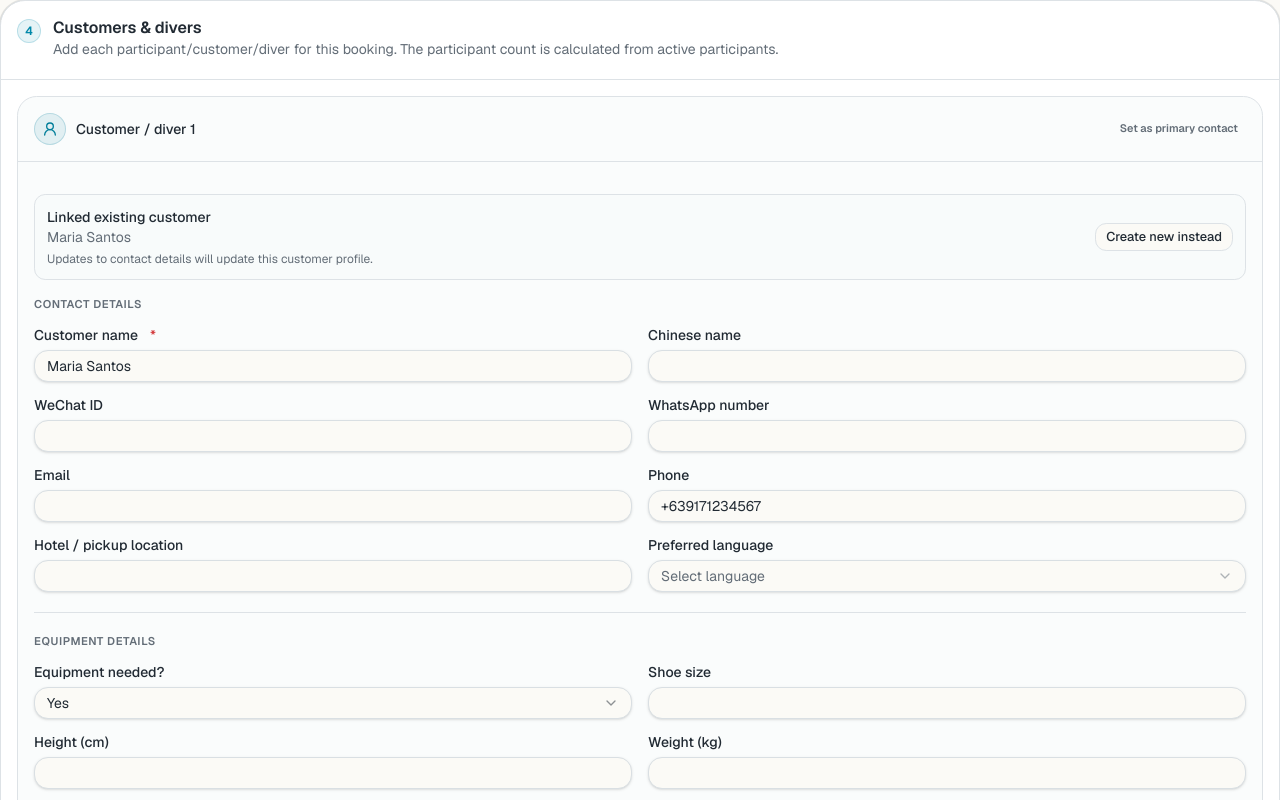
Test case: creates a new customer only after staff explicitly unlinks the existing profile
The width and height of the screenshot is (1280, 800).
Click the button "Create new instead".
click(1164, 237)  # box [1095,223,1233,251]
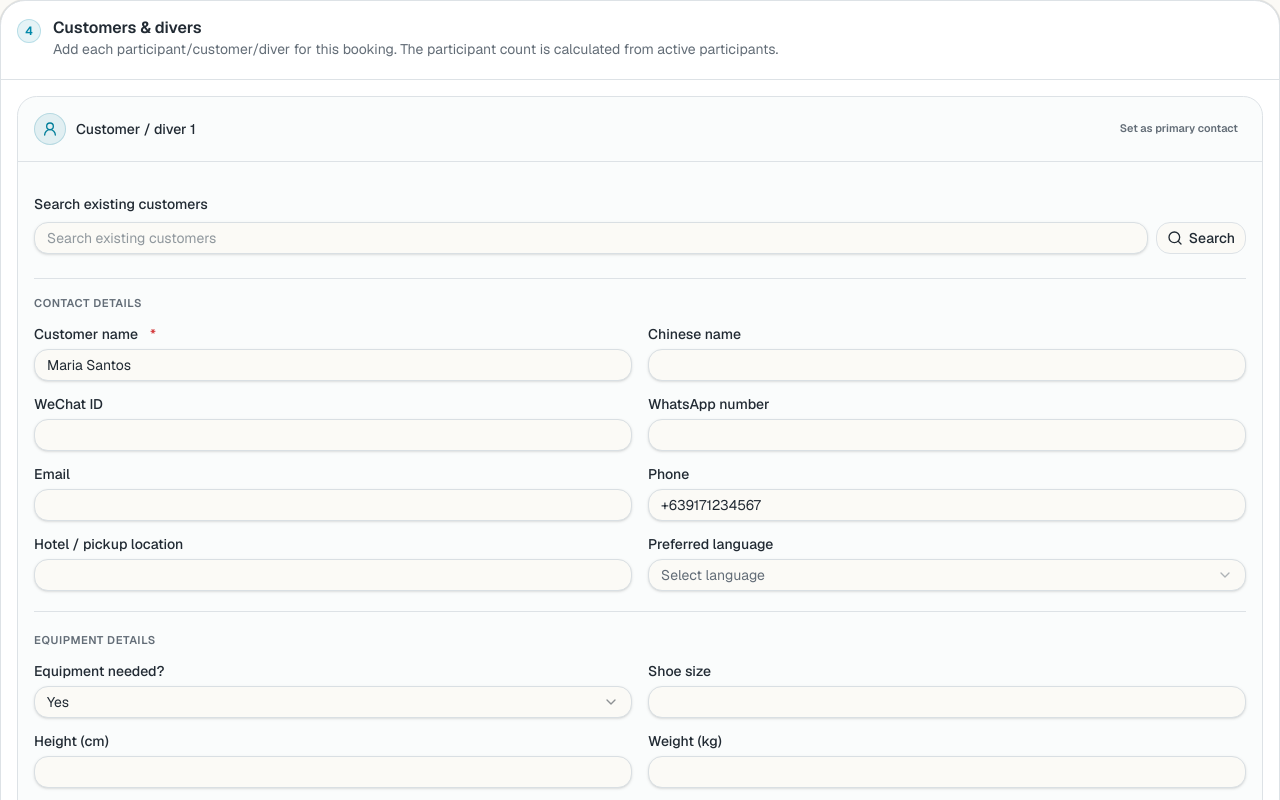
Expected: the text "Linked existing customer" is gone
Expected: the search field labelled "Search existing customers" is shown, [34,222,1148,254]
